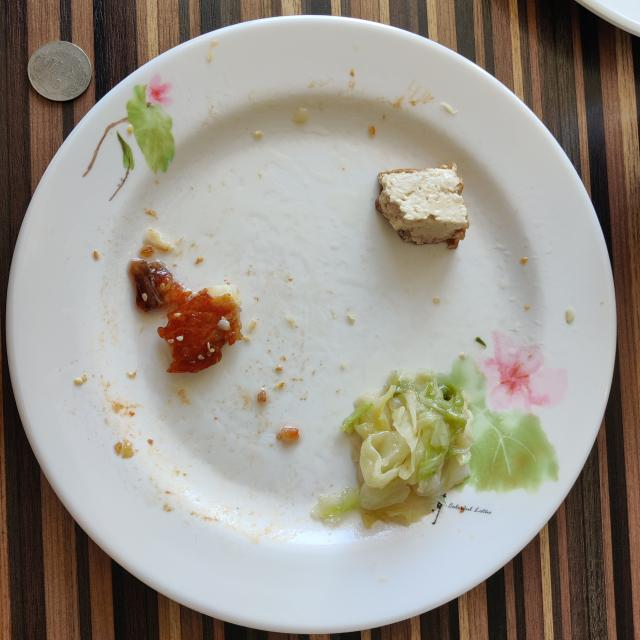Kabayaki sea bream fillet: (129, 259, 242, 372)
cabbage: (311, 369, 474, 528)
coin: (28, 41, 91, 101)
egg tofu: (376, 162, 470, 249)
